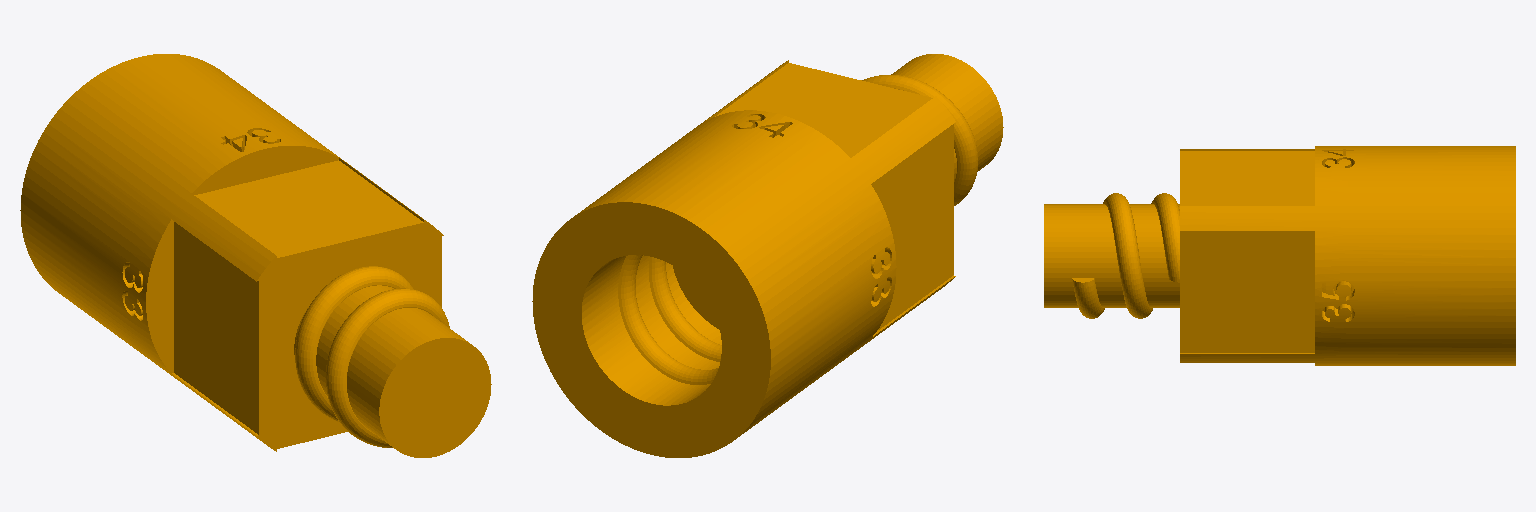
URDF robot description (round_table_leg):
<?xml version="1.0"?>
<robot name="round_table_leg">
    <link name="round_table_leg">
        <visual>
            <geometry>
                <mesh filename="../mesh/round_table/round_table_leg.obj" scale="1 1 1"/>
            </geometry>
        </visual>
        <collision>
            <geometry>
                <mesh filename="../mesh/round_table/round_table_leg.obj" scale="1 1 1"/>
            </geometry>
            <sdf resolution="512"/>
        </collision>
        <!-- <inertial>
            <mass value="1."/>
            <inertia ixx="0.0001" ixy="0.0" ixz="0.0" iyy="0.0001" iyz="0.0" izz="0.0001"/>
        </inertial> -->
    </link>
</robot>

--- What the picture shows (computed from the rendered views, not written in the file) ---
Views: 3 orthographic renders of the robot side by side, from view 1: azimuth 30°, elevation 25°; view 2: azimuth 150°, elevation 25°; view 3: azimuth 270°, elevation 25°.
Robot: round_table_leg — 1 links, 0 joints (none); root link round_table_leg; default pose: all joints at 0.
Links seen in each view (by area): view 1: round_table_leg; view 2: round_table_leg; view 3: round_table_leg.
Link boxes in pixels (left/top/right/bottom): round_table_leg: left=20, top=54, right=491, bottom=457; round_table_leg: left=532, top=54, right=1003, bottom=457; round_table_leg: left=1044, top=146, right=1515, bottom=365.
Size in the robot's own frame: 0.0425 by 0.0913 by 0.0425 metres.
Meshes: 1 distinct files referenced, 1 mesh visuals loaded (1 OBJ).